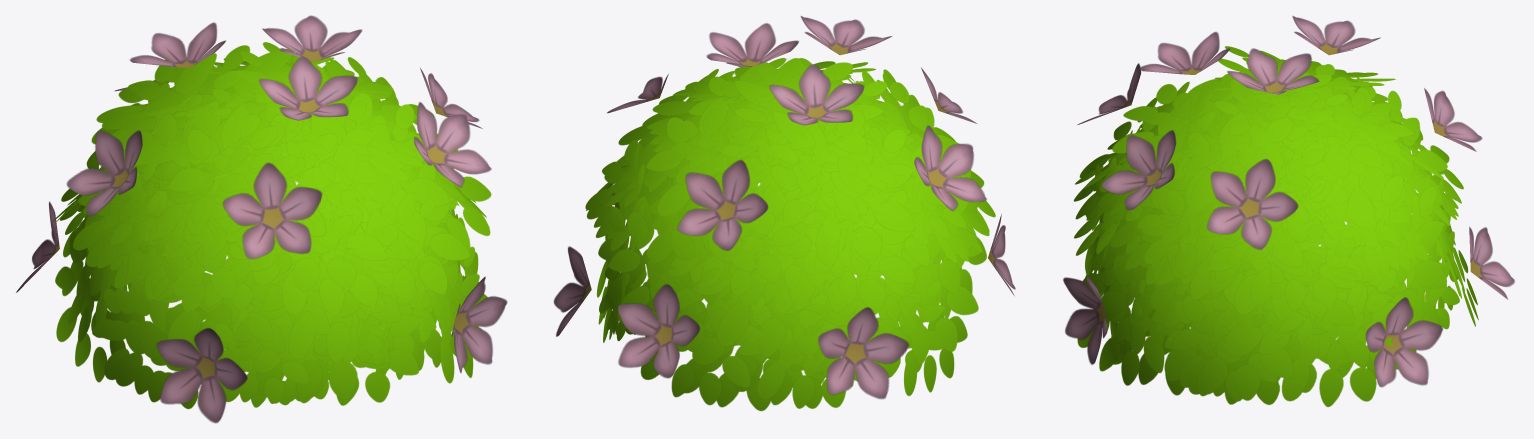
Rendered from bush_flowers.glb.
The picture shows the model from 3 angles, left to right: view 1: azimuth 30°, elevation 25°; view 2: azimuth 150°, elevation 25°; view 3: azimuth 270°, elevation 25°; orthographic projection. The views are drawn at different scales.
Visible parts, largest first — view 1: Bush_Flowers; view 2: Bush_Flowers; view 3: Bush_Flowers.
Part boxes in pixels (x1=…): Bush_Flowers: x1=16, y1=15, x2=507, y2=423; Bush_Flowers: x1=553, y1=16, x2=1015, y2=411; Bush_Flowers: x1=1063, y1=16, x2=1514, y2=406.
Size of the model in its own units: 1.09 by 0.7585 by 1.11.
2 materials, 2 textured.
